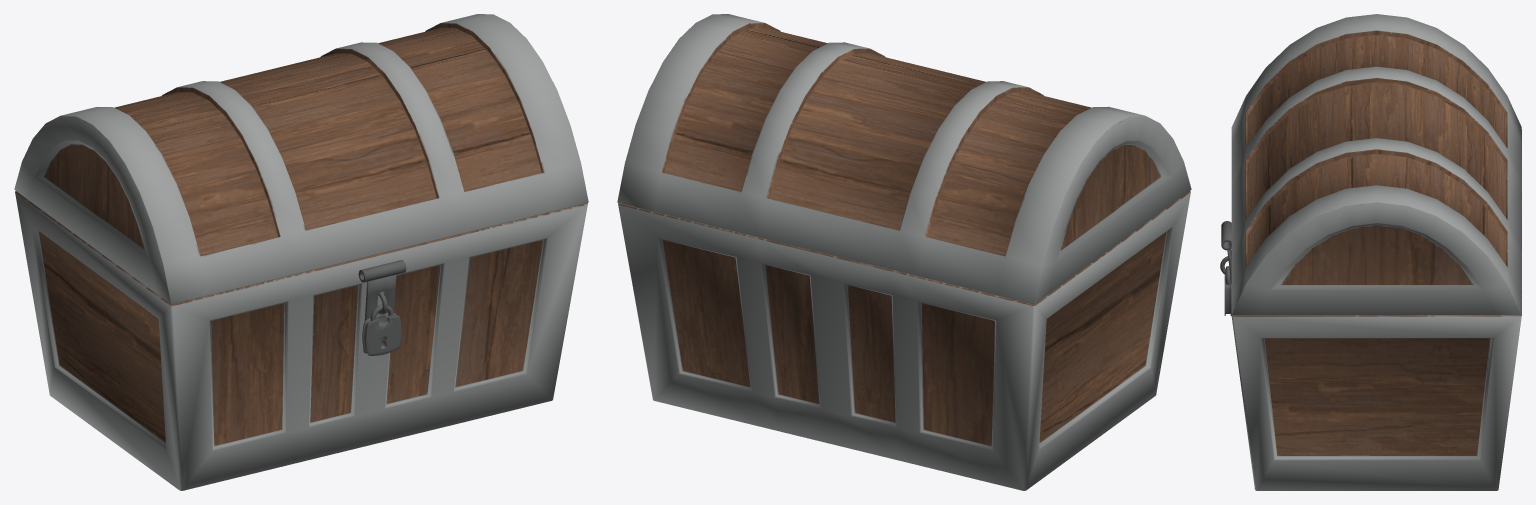
Rendered from chest.glb.
3 views of the same model, side by side, from view 1: azimuth 30°, elevation 25°; view 2: azimuth 150°, elevation 25°; view 3: azimuth 270°, elevation 25° (orthographic). The views are drawn at different scales.
Parts seen in each view (by area): view 1: Cube.001; view 2: Cube.001; view 3: Cube.001.
Part boxes in pixels (box(x1,y1,x2,y2)): Cube.001: box(14, 14, 588, 490); Cube.001: box(617, 14, 1191, 490); Cube.001: box(1220, 14, 1521, 490).
Size of the model in its own units: 1.11 by 0.823 by 0.7512.
1 material, 1 textured.
